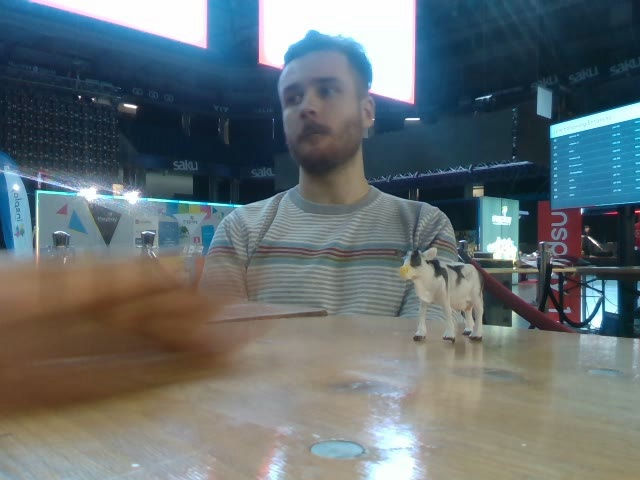toy: (396, 248, 486, 343)
